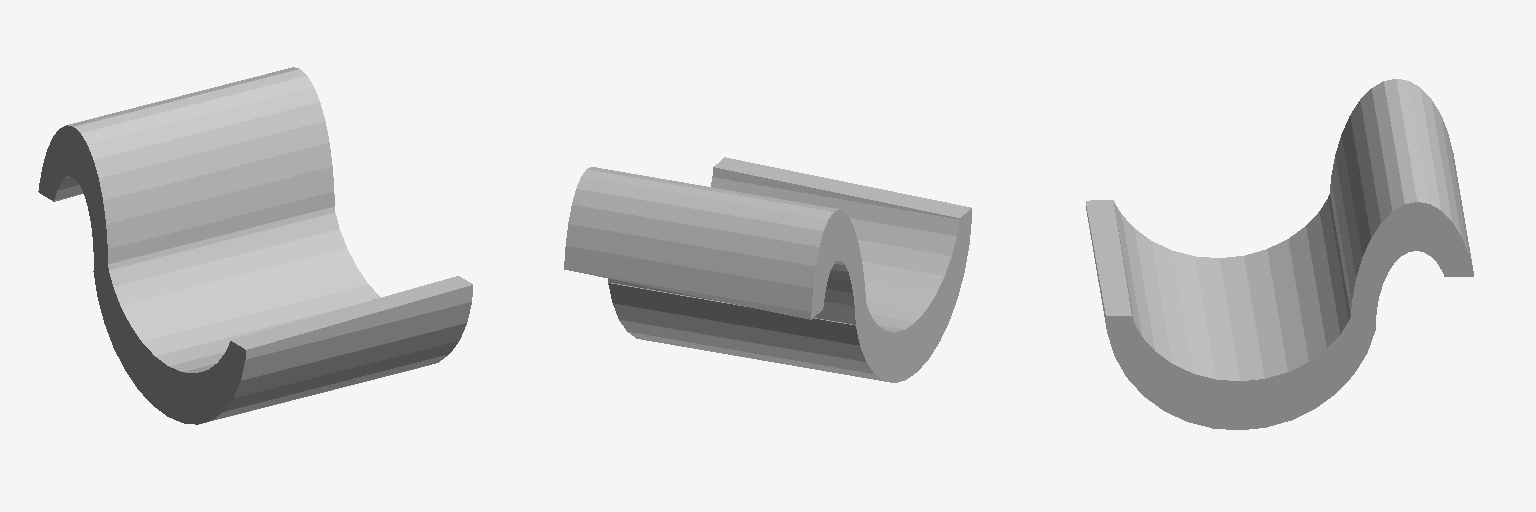
The model's file is roofmodel.obj.
3 views of the same model, side by side, from view 1: azimuth 30°, elevation 25°; view 2: azimuth 150°, elevation 25°; view 3: azimuth 270°, elevation 25° (orthographic).
Visible parts, largest first — view 1: Untitled_Cylinder.005; view 2: Untitled_Cylinder.005; view 3: Untitled_Cylinder.005.
Part boxes in pixels (bbox=[...]): Untitled_Cylinder.005: bbox=[38, 67, 472, 424]; Untitled_Cylinder.005: bbox=[564, 157, 971, 382]; Untitled_Cylinder.005: bbox=[1086, 79, 1473, 429].
Bounding box in the file's own units: 2.19 × 1.88 × 2.83.